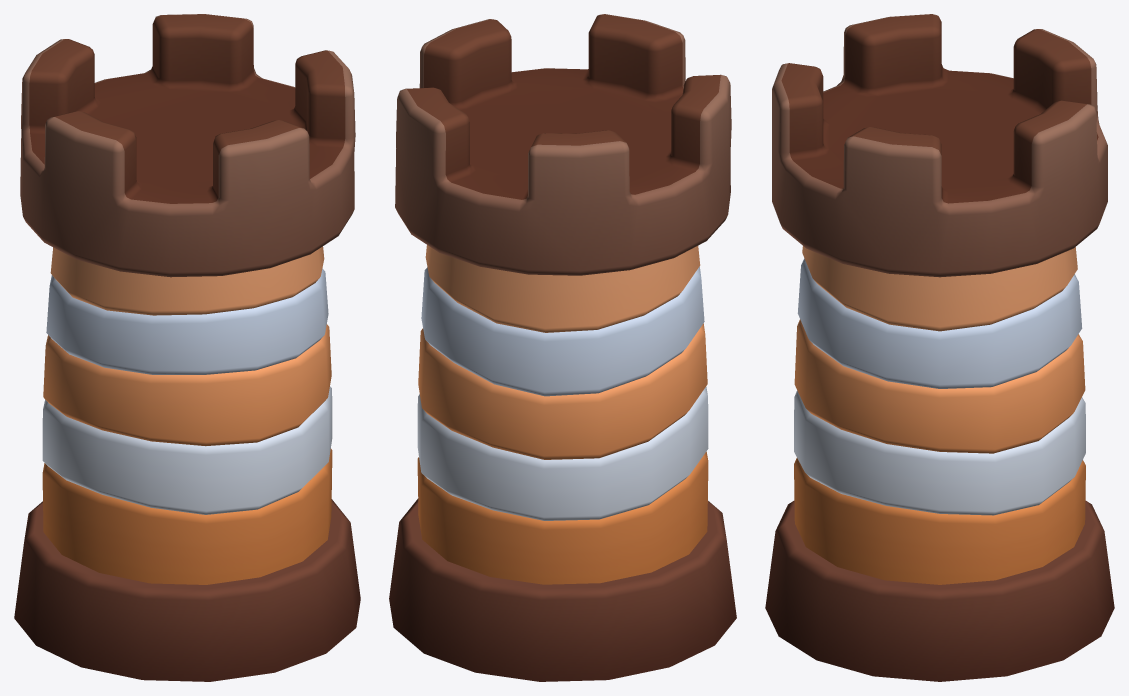
File: Tower_02.glb
The picture shows the model from 3 angles, left to right: view 1: azimuth 30°, elevation 25°; view 2: azimuth 150°, elevation 25°; view 3: azimuth 270°, elevation 25°; orthographic projection.
Visible parts, largest first — view 1: Tower_02; view 2: Tower_02; view 3: Tower_02.
Boxes of the visible parts, <box> form: Tower_02: <box>14,14,360,681</box>; Tower_02: <box>389,14,736,681</box>; Tower_02: <box>765,14,1114,681</box>.
Bounding box in the file's own units: 8.67 × 14.44 × 8.67.
1 material, 1 textured.
